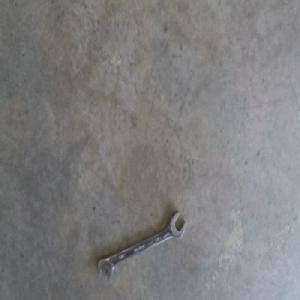Wrench: (97, 210, 186, 279)
